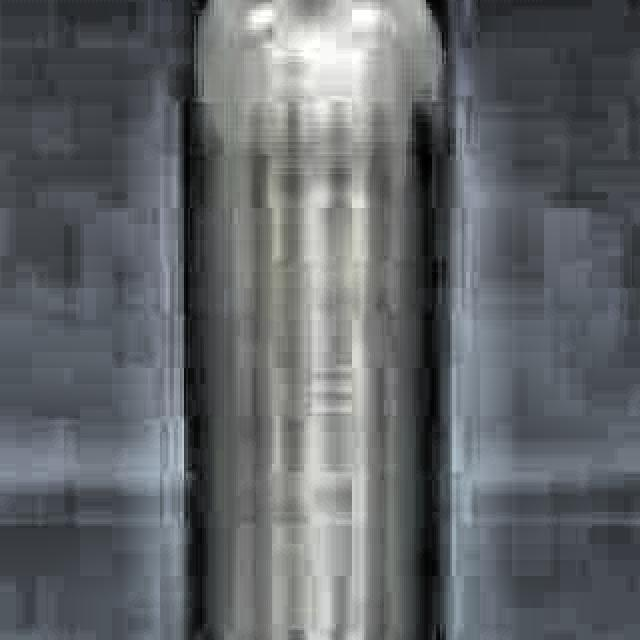metal: (188, 0, 458, 640)
